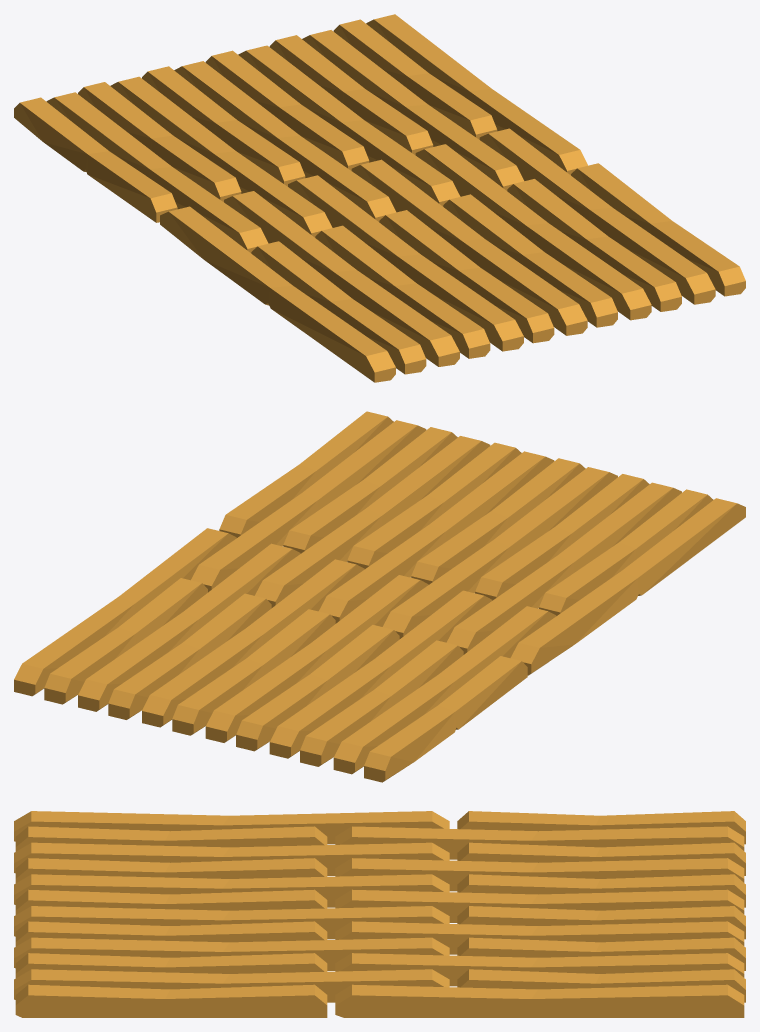
File: platform1.fbx
3 renders of one model, top to bottom at view 1: azimuth 30°, elevation 25°; view 2: azimuth 150°, elevation 25°; view 3: azimuth 270°, elevation 25°, orthographic.
Visible parts, largest first — view 1: platform; view 2: platform; view 3: platform.
Part boxes in pixels (box(x1,y1,x2,y2)): platform: box(14, 14, 745, 382); platform: box(14, 411, 745, 782); platform: box(14, 811, 745, 1017).
Size of the model in its own units: 434 by 24.87 by 729.
